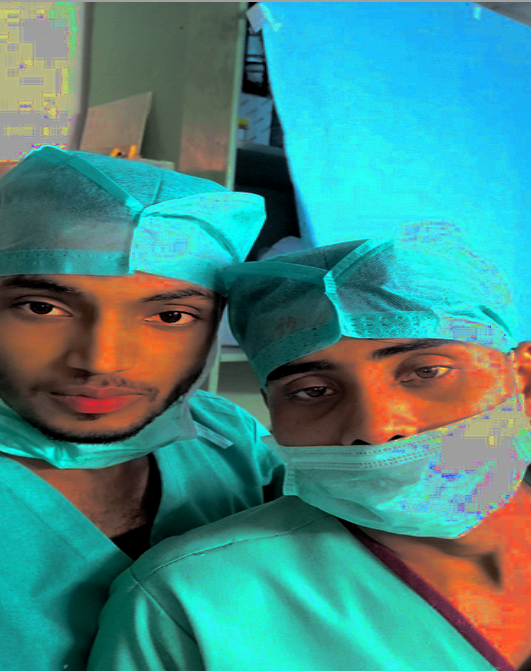mask_weared_incorrect: (224, 216, 531, 543)
